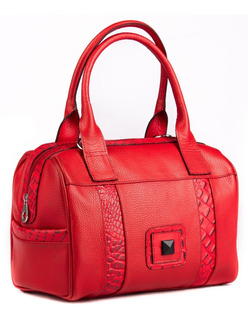cartera: (9, 18, 240, 303)
